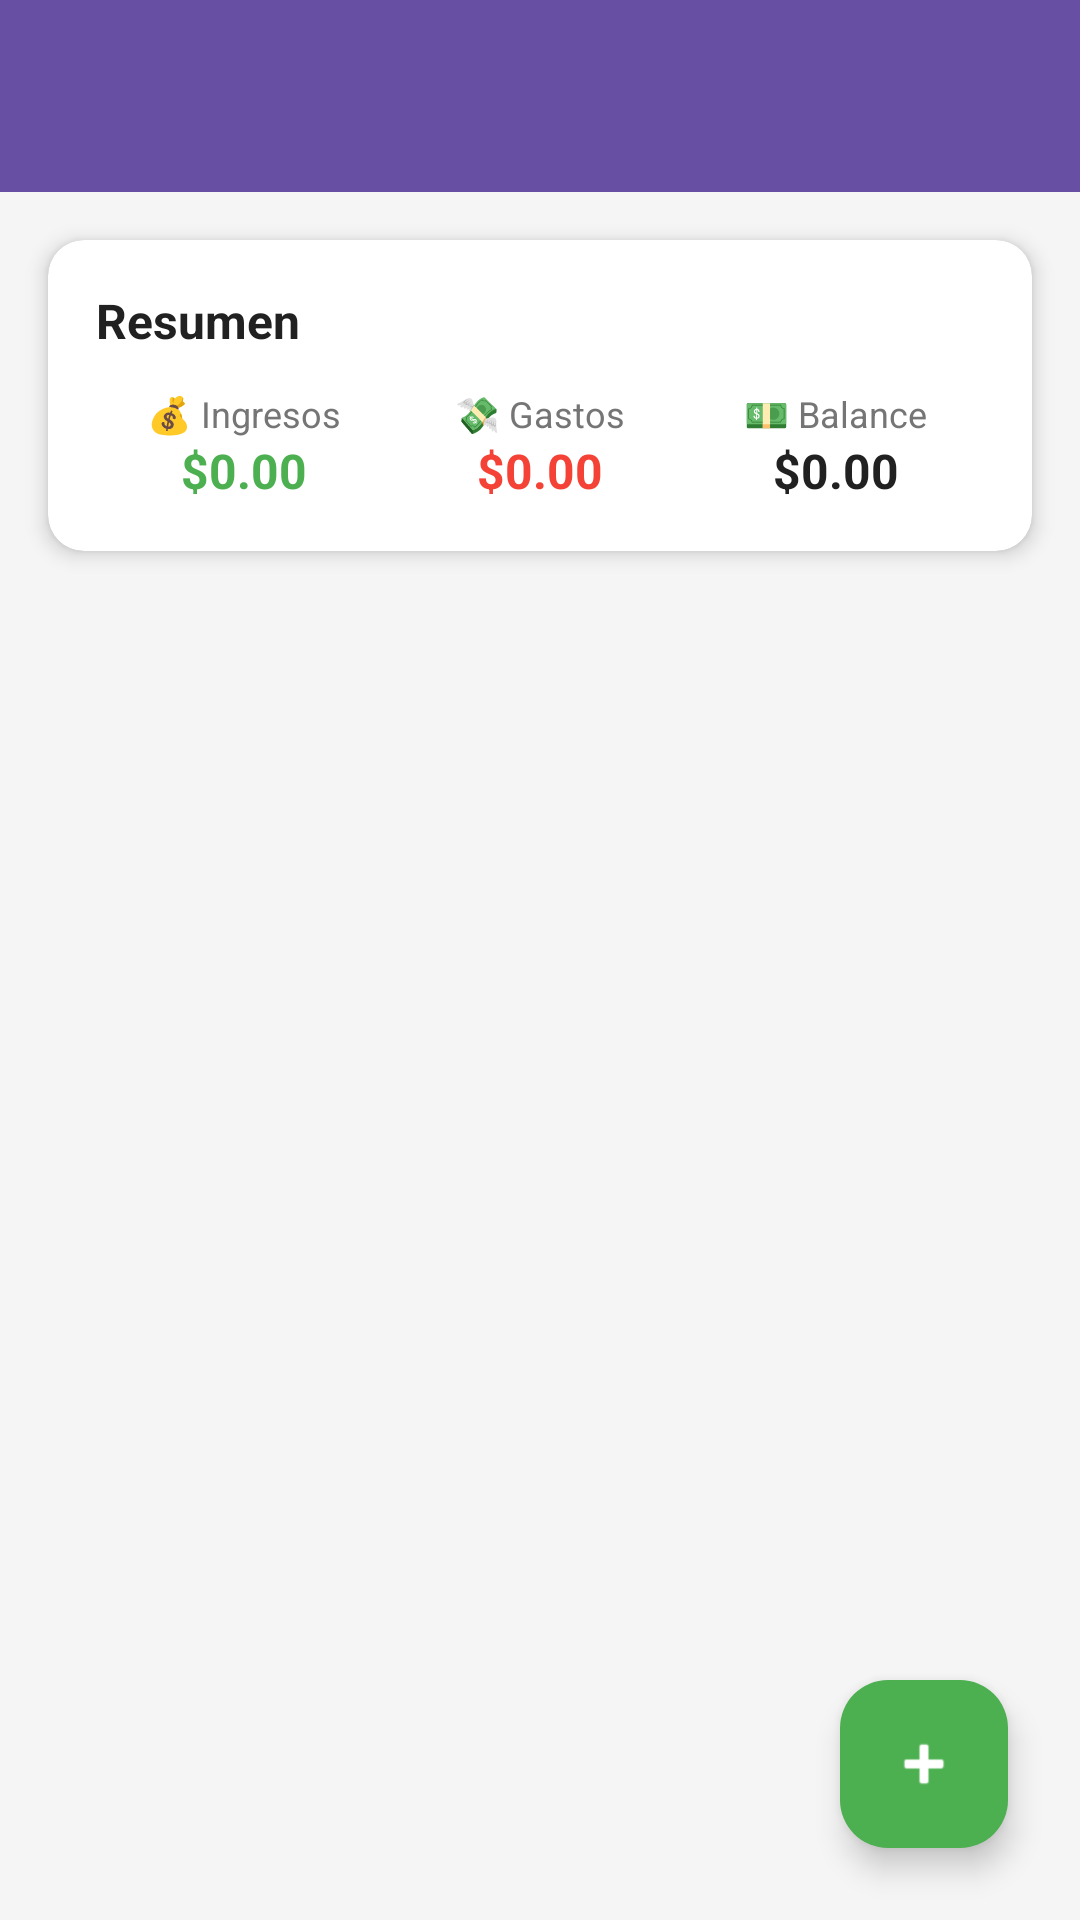

Screen size 1080px x 1920px. Icon name, then its box in pixels as {"left": x1, "top": y1, "right": x2, "bottom": y2}:
Agregar transacción: {"left": 840, "top": 1680, "right": 1008, "bottom": 1848}
